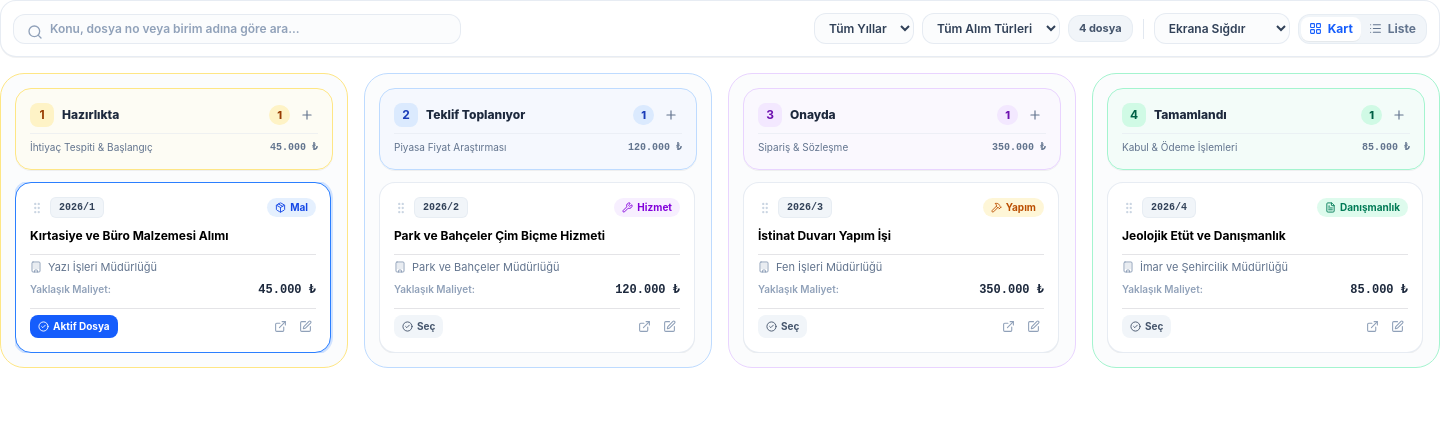
Test case: TakipKanbanBoard (Issue #11) › alım türüne göre dosyaları filtreler
The image size is (1440, 434).
Select "Hizmet Alımı" in the dropdown named "Alım Türüne Göre Filtrele" at (991, 28), box [922, 13, 1060, 44]
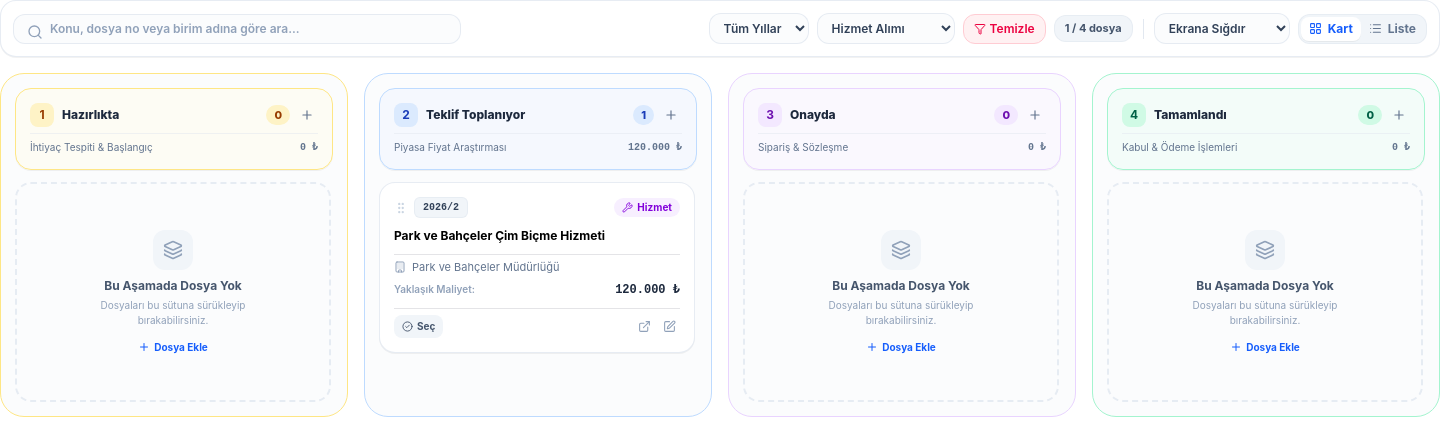
Expected: the heading "Park ve Bahçeler Çim Biçme Hizmeti" is shown, [394, 228, 605, 243]
Expected: the heading "Kırtasiye ve Büro Malzemesi Alımı" is gone
